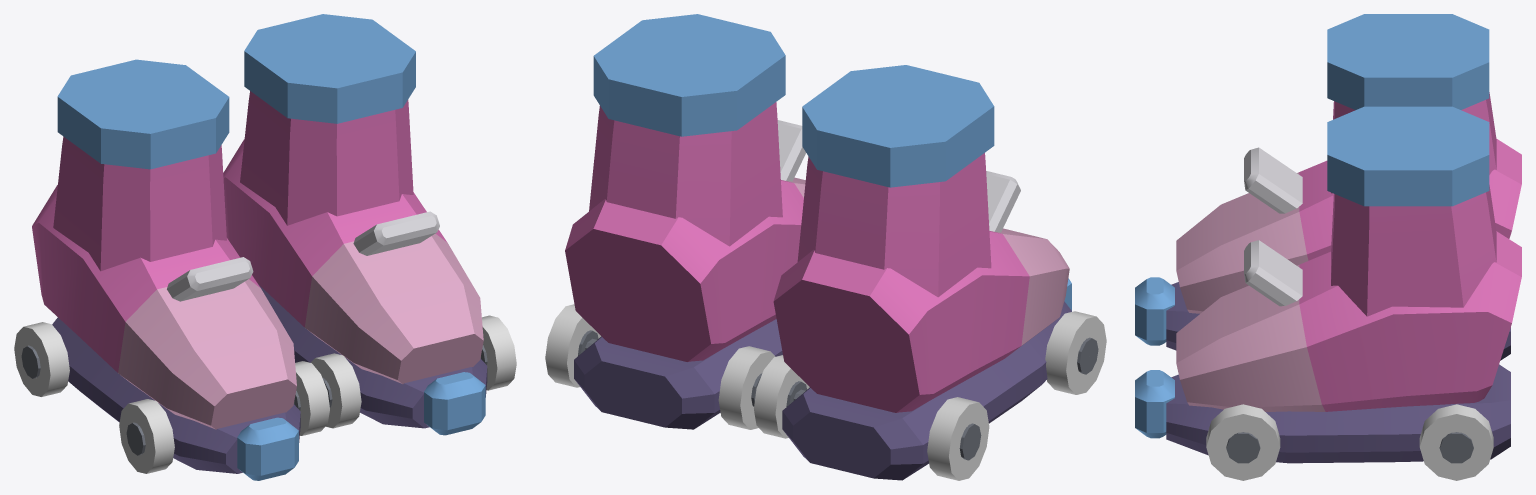
File: gear_patins.glb
3 renders of one model, left to right at view 1: azimuth 30°, elevation 25°; view 2: azimuth 150°, elevation 25°; view 3: azimuth 270°, elevation 25°, orthographic. The views are drawn at different scales.
Visible parts, largest first — view 1: shin_r__patins, shin_l__patins, shin_r__patins_glow, shin_l__patins_glow; view 2: shin_r__patins, shin_l__patins, shin_r__patins_glow, shin_l__patins_glow; view 3: shin_l__patins, shin_r__patins, shin_l__patins_glow.
Boxes of the visible parts, box(x1,y1,x2,y2) form: shin_r__patins: box(21, 59, 300, 480); shin_l__patins: box(223, 14, 487, 435); shin_r__patins_glow: box(14, 322, 329, 473); shin_l__patins_glow: box(311, 315, 516, 428); shin_r__patins: box(773, 65, 1098, 480); shin_l__patins: box(565, 14, 805, 429); shin_r__patins_glow: box(754, 311, 1106, 480); shin_l__patins_glow: box(545, 304, 775, 429); shin_l__patins: box(1135, 106, 1521, 463); shin_r__patins: box(1135, 14, 1521, 360); shin_l__patins_glow: box(1206, 404, 1493, 480).
Size of the model in its own units: 0.302 by 0.232 by 0.2717.
